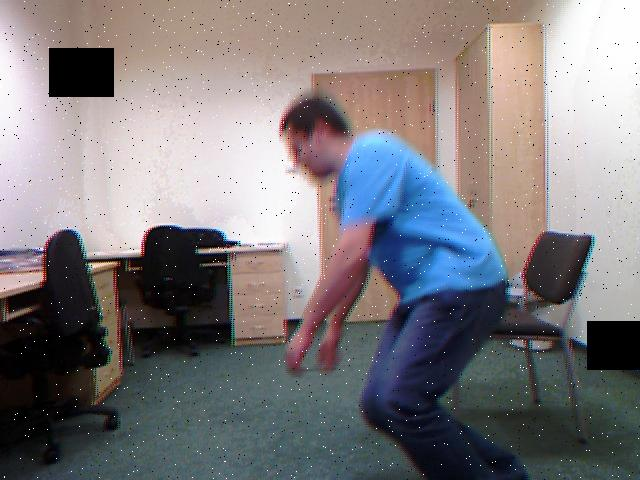near-fall: (258, 82, 523, 480)
